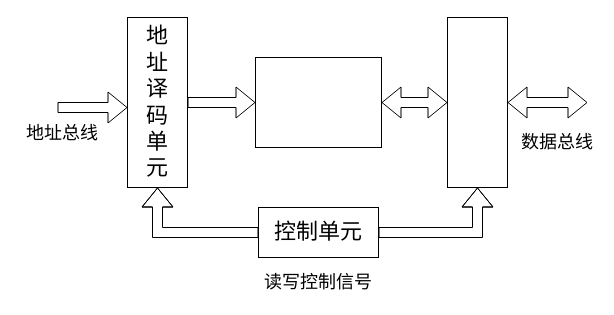
This 614x315 diagram has some shape labels left out. Each missing label, with the centre of its shape:
I/O: pixel 477 102
存储阵列: pixel 318 102
